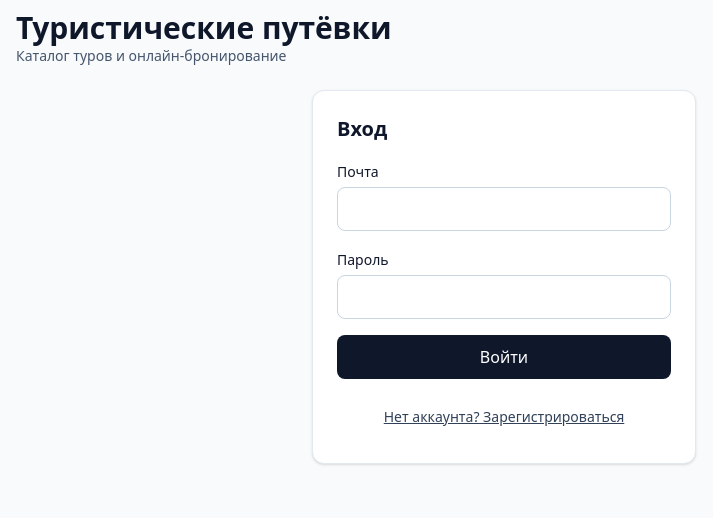
Test: App: авторизация › клиентская валидация: короткий пароль не уходит на сервер
This screenshot has width=713, height=518.
Type "rem@example.com" into the field labelled "Почта" at coordinates (504, 209), box [337,187,671,231]
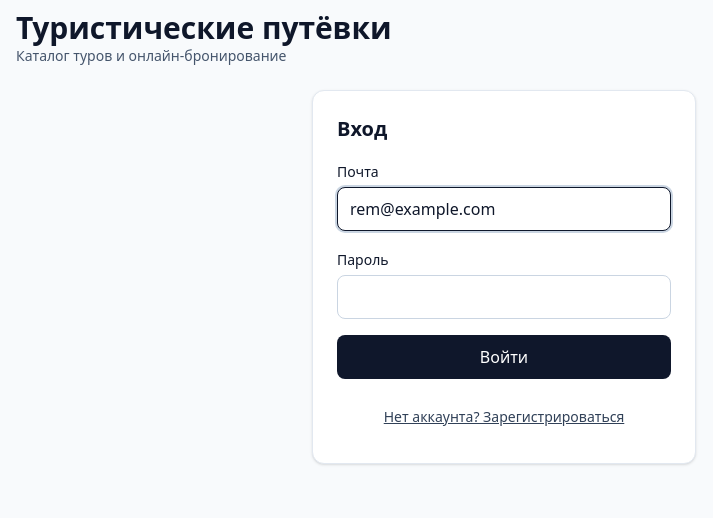
Type "123" into the password field labelled "Пароль" at coordinates (504, 297), box [337,275,671,319]
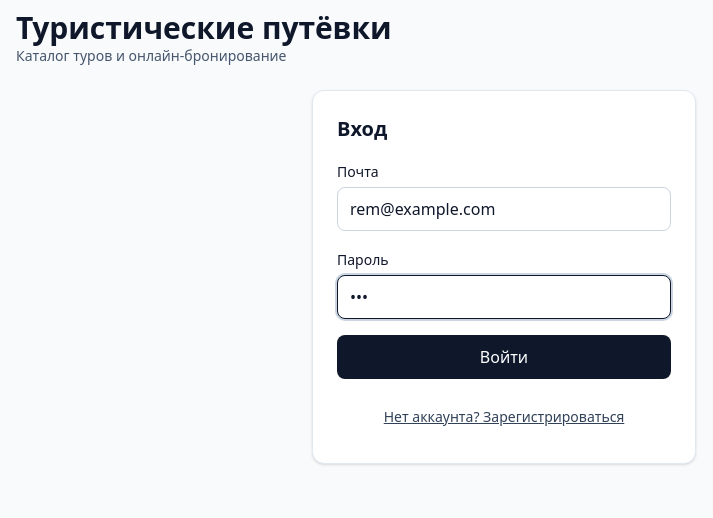
Click the button "Войти" at coordinates (504, 357), box [337,335,671,379]
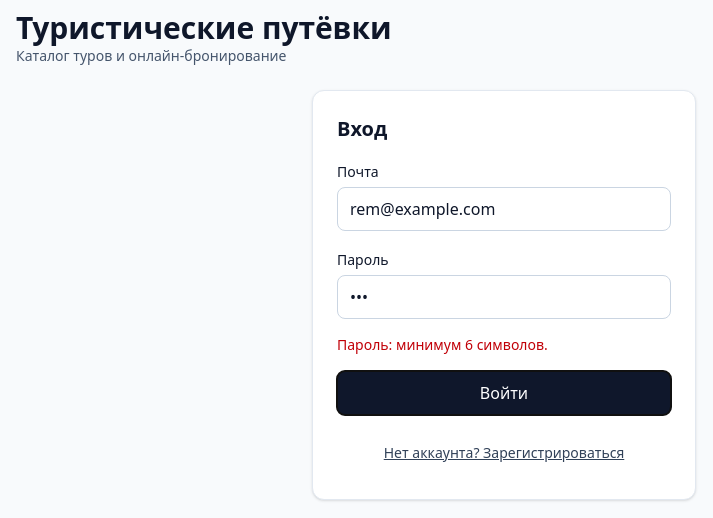
Check: the message shows "минимум 6 символов", box [337,335,548,354]
